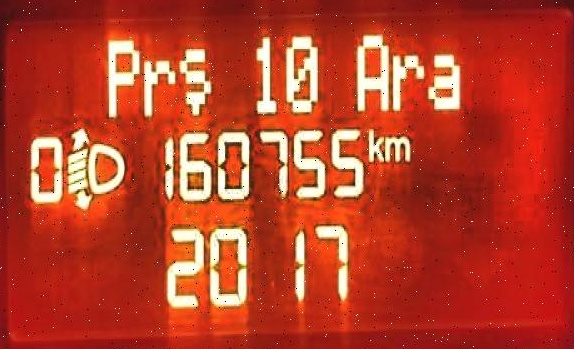0: (282, 28, 320, 117), (208, 227, 248, 307), (215, 129, 247, 200), (28, 135, 61, 202)
1: (252, 32, 276, 115), (293, 225, 309, 304), (161, 132, 174, 202)
2: (164, 225, 204, 307)
5: (330, 123, 364, 197), (292, 125, 325, 199)
6: (177, 127, 211, 200)
7: (313, 219, 349, 300), (256, 125, 289, 199)
X: (105, 34, 139, 119), (354, 30, 389, 112), (176, 45, 211, 117), (426, 48, 461, 112), (390, 47, 424, 108), (141, 55, 174, 117), (384, 132, 410, 162), (366, 123, 383, 162)
